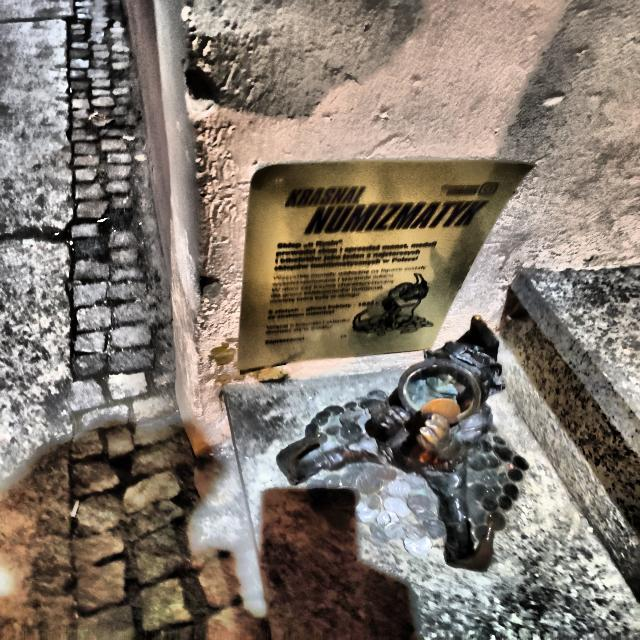Numizmatyk: (277, 316, 528, 570)
